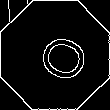O_NW: (23, 25, 87, 85)
